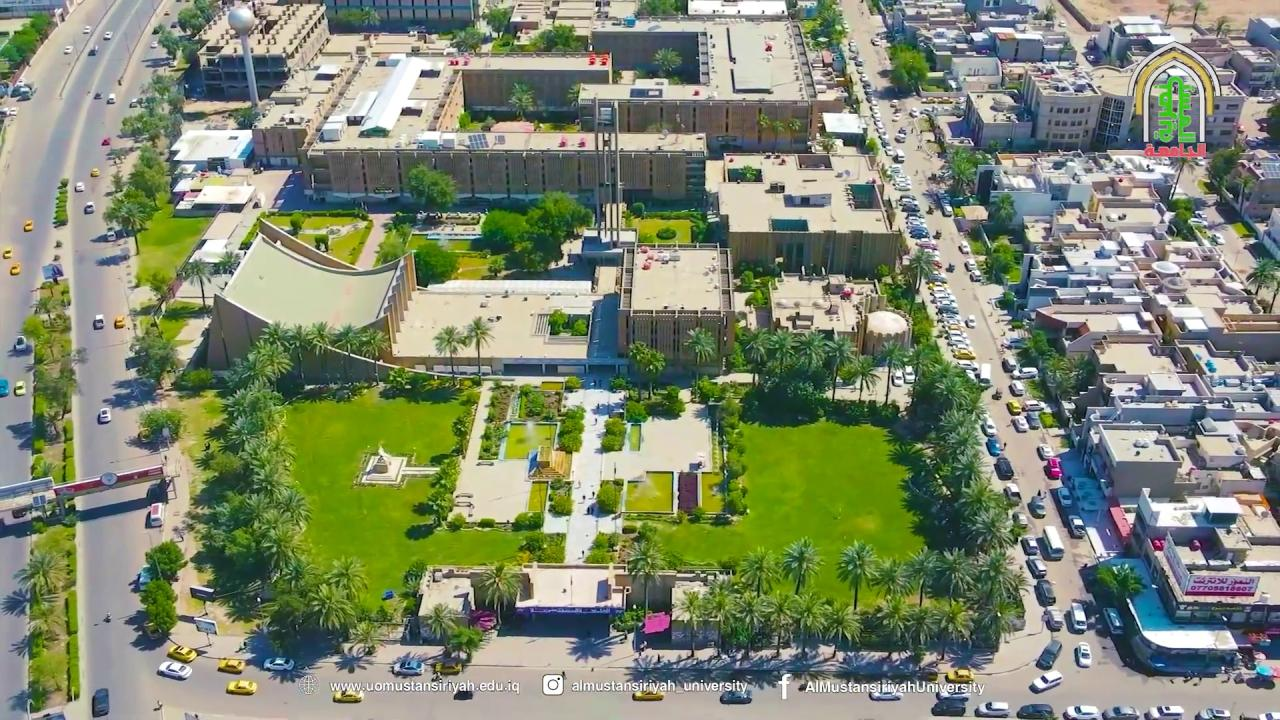car: (1034, 640, 1062, 670), (1029, 670, 1063, 694), (156, 660, 192, 680), (1033, 579, 1056, 607), (931, 699, 966, 717), (1016, 704, 1055, 720), (974, 701, 1010, 718), (392, 658, 424, 677), (1103, 607, 1124, 635), (1144, 705, 1185, 719), (1063, 705, 1102, 719), (168, 644, 198, 662), (719, 689, 752, 705), (225, 679, 258, 695), (935, 686, 970, 701), (92, 688, 110, 717), (432, 660, 462, 677), (1042, 608, 1064, 631), (1102, 706, 1139, 719), (263, 656, 295, 671), (1074, 642, 1092, 668), (945, 667, 974, 683), (1026, 558, 1048, 579), (218, 657, 245, 674), (1044, 457, 1063, 480), (146, 503, 164, 527), (138, 565, 154, 592), (333, 689, 363, 703), (868, 689, 902, 701), (194, 617, 218, 634), (631, 689, 664, 701), (1195, 708, 1231, 719), (1069, 515, 1085, 539), (1021, 535, 1039, 556), (1002, 484, 1021, 503), (1254, 665, 1274, 682), (1247, 631, 1271, 645), (1239, 712, 1279, 719), (13, 336, 28, 352), (96, 407, 110, 424), (453, 690, 473, 701), (92, 315, 105, 329), (14, 380, 26, 395), (43, 711, 65, 719), (83, 201, 95, 214), (381, 589, 394, 601), (113, 316, 125, 329), (73, 181, 84, 192), (106, 229, 115, 242), (23, 220, 33, 231), (89, 44, 98, 55), (63, 45, 73, 54), (103, 30, 113, 39), (106, 94, 115, 104), (90, 167, 99, 177), (82, 26, 90, 33)
fountain: (618, 470, 680, 518), (506, 419, 556, 461), (404, 232, 474, 254), (700, 472, 729, 519), (525, 482, 549, 517), (624, 422, 646, 451)
tree: (184, 321, 415, 658), (670, 536, 1029, 670), (184, 338, 314, 623), (257, 553, 408, 657), (1, 544, 76, 712), (525, 189, 594, 253), (624, 523, 669, 619), (104, 185, 160, 255), (422, 601, 484, 663), (227, 5, 260, 109), (13, 548, 68, 610), (477, 559, 525, 629), (834, 539, 880, 611), (698, 581, 739, 657), (129, 329, 179, 387), (928, 597, 973, 660), (757, 589, 799, 656), (125, 144, 170, 206), (779, 535, 825, 595), (671, 588, 710, 657), (788, 590, 827, 658), (244, 337, 292, 392), (899, 545, 941, 607), (818, 599, 862, 658), (729, 590, 767, 657), (407, 163, 458, 212), (1095, 560, 1146, 608), (884, 42, 929, 96), (137, 578, 178, 637), (735, 544, 781, 596), (426, 456, 462, 521), (411, 241, 461, 287), (682, 326, 715, 395), (479, 208, 528, 253), (627, 341, 665, 399), (737, 326, 773, 386), (461, 315, 496, 376), (837, 353, 880, 402), (136, 406, 185, 448), (868, 556, 911, 603), (326, 554, 368, 601), (432, 324, 469, 377), (422, 601, 459, 653), (284, 322, 317, 380), (177, 255, 212, 309), (945, 144, 981, 196), (143, 539, 187, 581), (356, 328, 389, 384), (307, 319, 335, 383), (880, 340, 907, 406), (332, 322, 362, 381), (982, 232, 1016, 284), (397, 558, 426, 616), (372, 225, 407, 267), (768, 326, 799, 373), (794, 328, 826, 373), (1043, 352, 1073, 400), (176, 0, 213, 38), (447, 624, 483, 663), (1244, 255, 1278, 296), (556, 406, 585, 452), (449, 406, 475, 456), (146, 268, 173, 316), (350, 620, 384, 656), (987, 191, 1016, 233), (907, 247, 934, 292), (478, 420, 509, 459), (1025, 328, 1055, 368), (507, 80, 535, 121), (643, 348, 666, 397), (759, 113, 785, 155), (517, 529, 548, 563), (449, 26, 483, 55), (651, 46, 682, 77), (483, 6, 511, 39), (600, 416, 625, 451), (659, 384, 684, 417), (596, 481, 620, 513), (685, 212, 708, 245), (546, 488, 572, 516), (566, 81, 582, 124), (52, 184, 68, 226), (1208, 16, 1230, 44), (547, 308, 568, 335), (288, 210, 308, 236), (786, 117, 801, 151), (816, 131, 837, 154)
